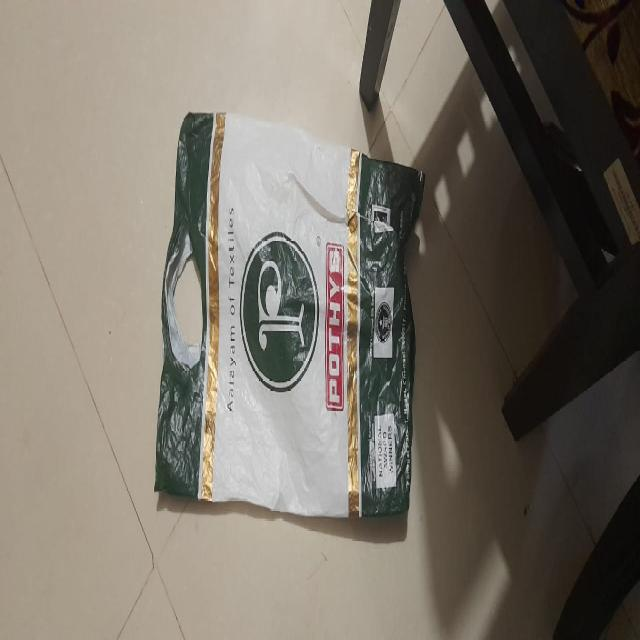Plastic - Recyclable: (154, 108, 426, 522)
